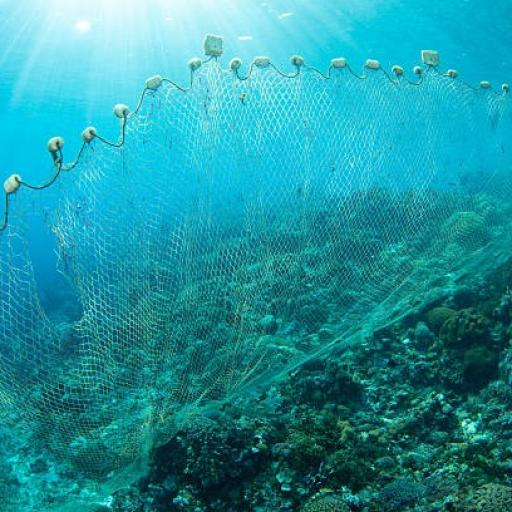net: (2, 39, 510, 480)
